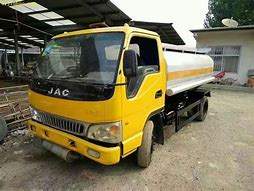oil truck: (28, 23, 218, 165)
